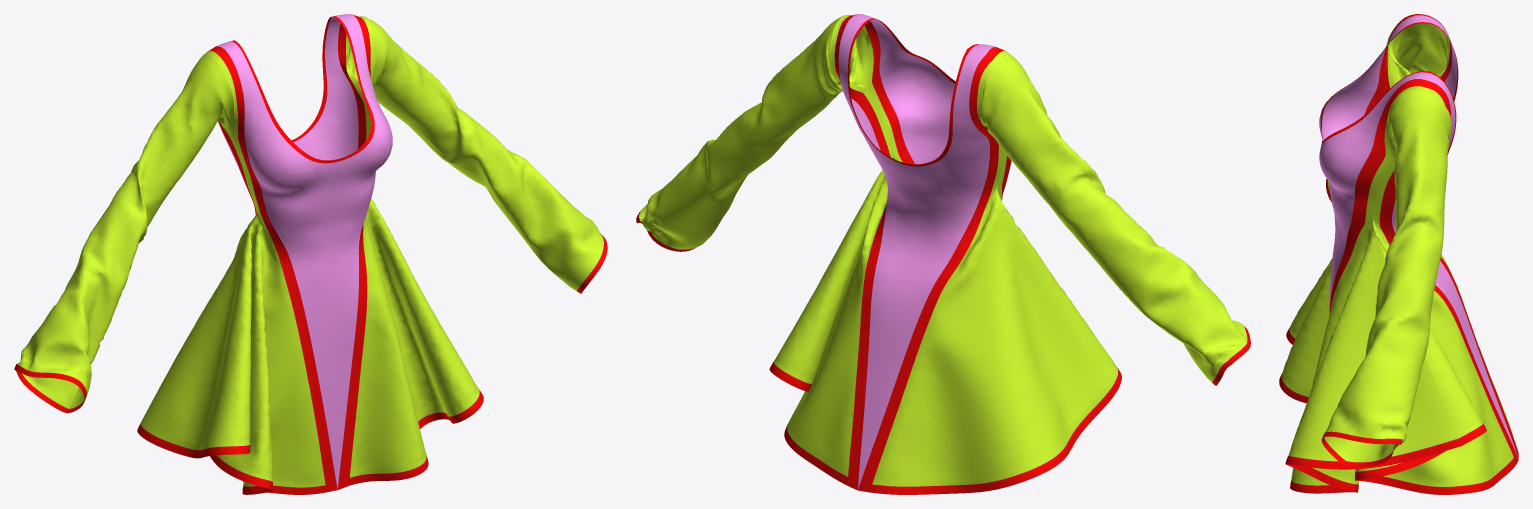
The model's file is Dress2.glb.
3 views of the same model, side by side, from view 1: azimuth 30°, elevation 25°; view 2: azimuth 150°, elevation 25°; view 3: azimuth 270°, elevation 25° (orthographic). The views are drawn at different scales.
Parts seen in each view (by area): view 1: Cloth; view 2: Cloth; view 3: Cloth.
Part boxes in pixels (x1,y1,x2,y2): Cloth: [14, 14, 607, 494]; Cloth: [636, 14, 1250, 494]; Cloth: [1279, 14, 1518, 494].
Bounding box in the file's own units: 1.24 × 0.872 × 0.444.
Materials: 3 (3 with a texture image).
